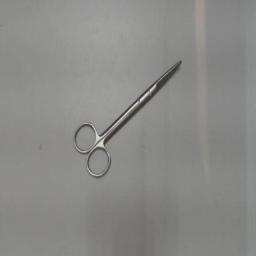Curved Mayo Scissors: (69, 55, 185, 183)
